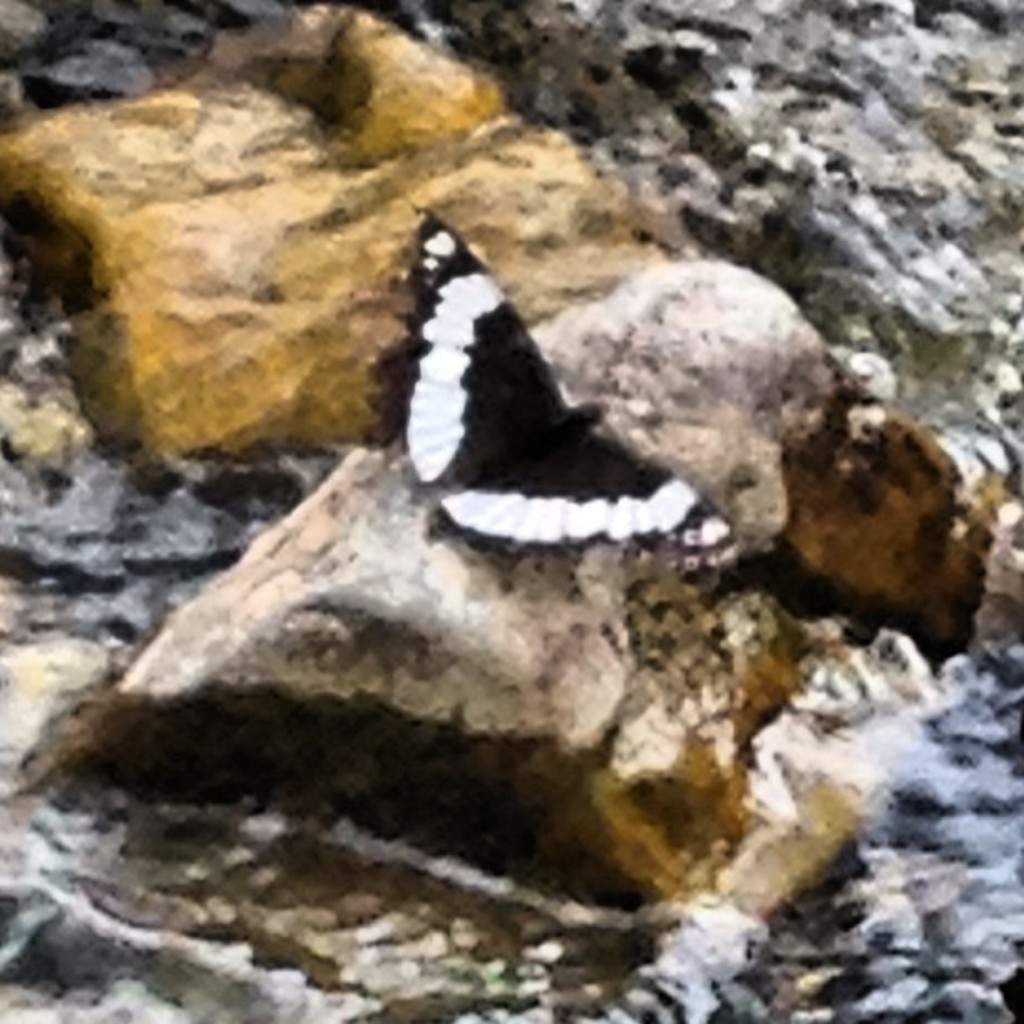Butterfly: (364, 199, 753, 583)
